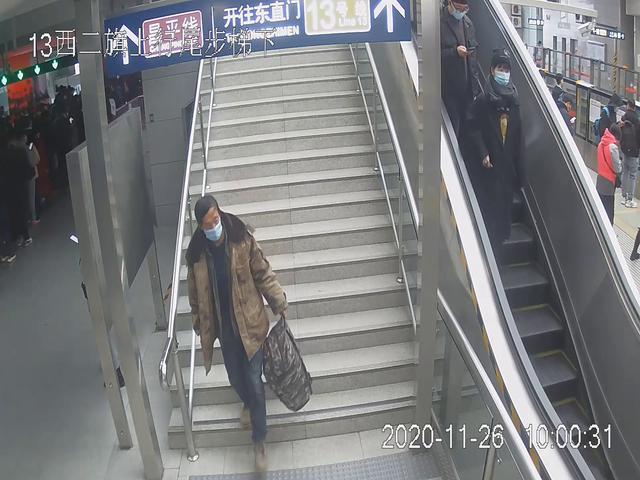person: (179, 189, 315, 480), (457, 45, 527, 289), (434, 1, 479, 160)
